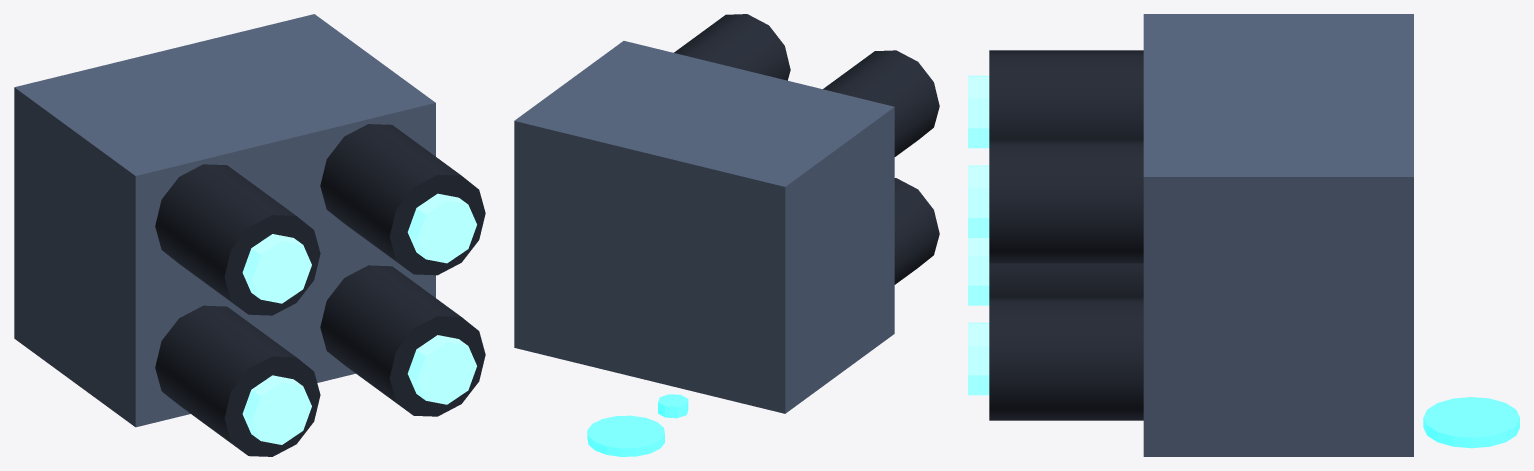
File: mod_lanzamisiles.fbx
3 views of the same model, side by side, from view 1: azimuth 30°, elevation 25°; view 2: azimuth 150°, elevation 25°; view 3: azimuth 270°, elevation 25° (orthographic). The views are drawn at different scales.
Visible parts, largest first — view 1: Lanzamisiles, Lanzamisiles_Neon; view 2: Lanzamisiles, Lanzamisiles_Marca, Lanzamisiles_Conectores; view 3: Lanzamisiles, Lanzamisiles_Neon, Lanzamisiles_Marca.
Part boxes in pixels (x1,y1,x2,y2): Lanzamisiles: [14, 14, 485, 456]; Lanzamisiles_Neon: [242, 193, 476, 444]; Lanzamisiles: [514, 14, 939, 413]; Lanzamisiles_Marca: [587, 415, 664, 456]; Lanzamisiles_Conectores: [658, 394, 688, 418]; Lanzamisiles: [989, 14, 1413, 456]; Lanzamisiles_Neon: [968, 75, 989, 395]; Lanzamisiles_Marca: [1423, 397, 1519, 448].
Size of the model in its own units: 0.56 by 0.5432 by 0.8008.
